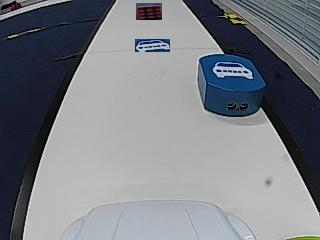safety: (213, 61, 254, 79)
